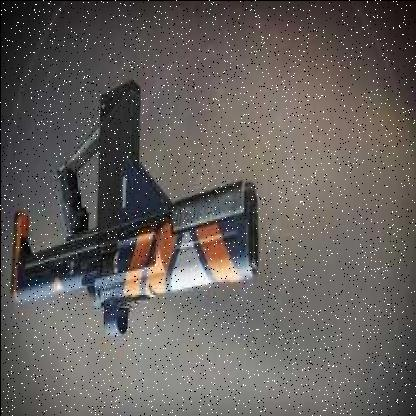rifle: (5, 90, 278, 334)
